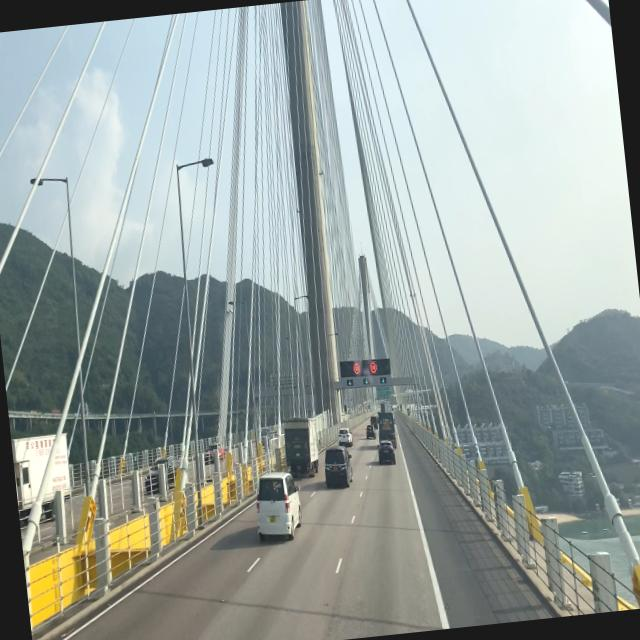Vehicle: (250, 472, 304, 546), (278, 415, 320, 481), (319, 441, 356, 494), (374, 438, 396, 466), (334, 428, 354, 450)
